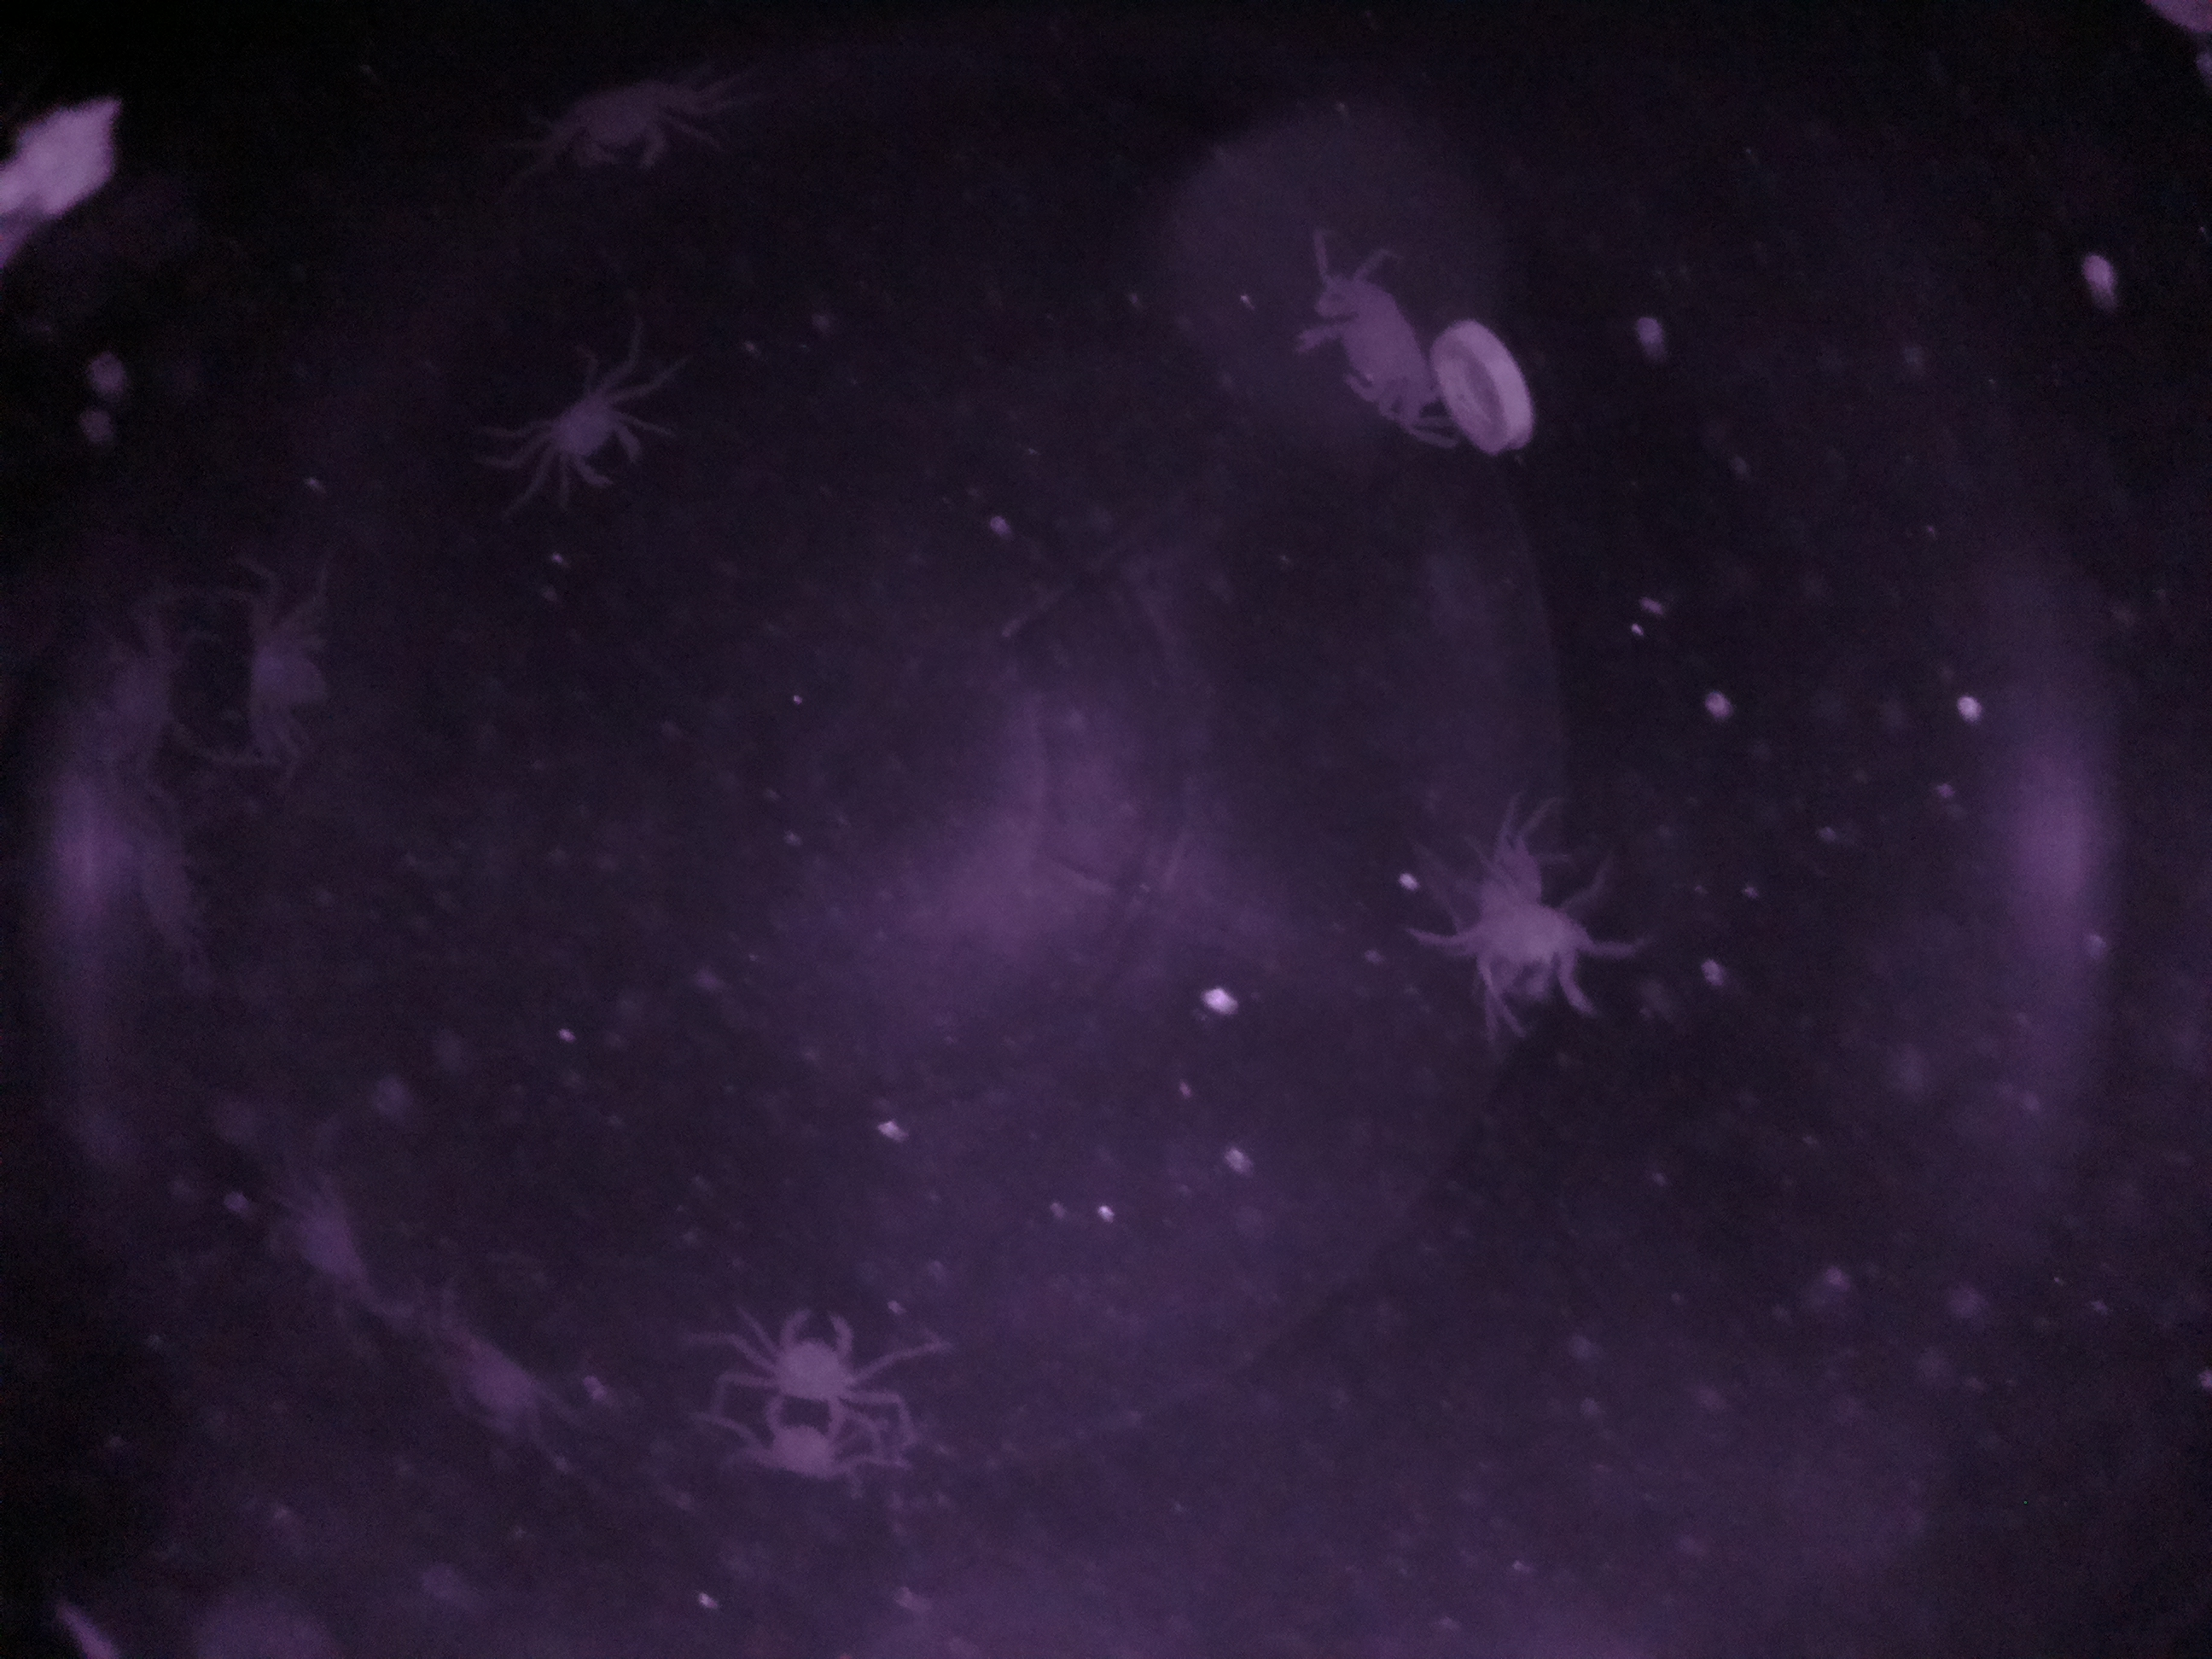Crab: (512, 345, 674, 525), (740, 1274, 904, 1438)
